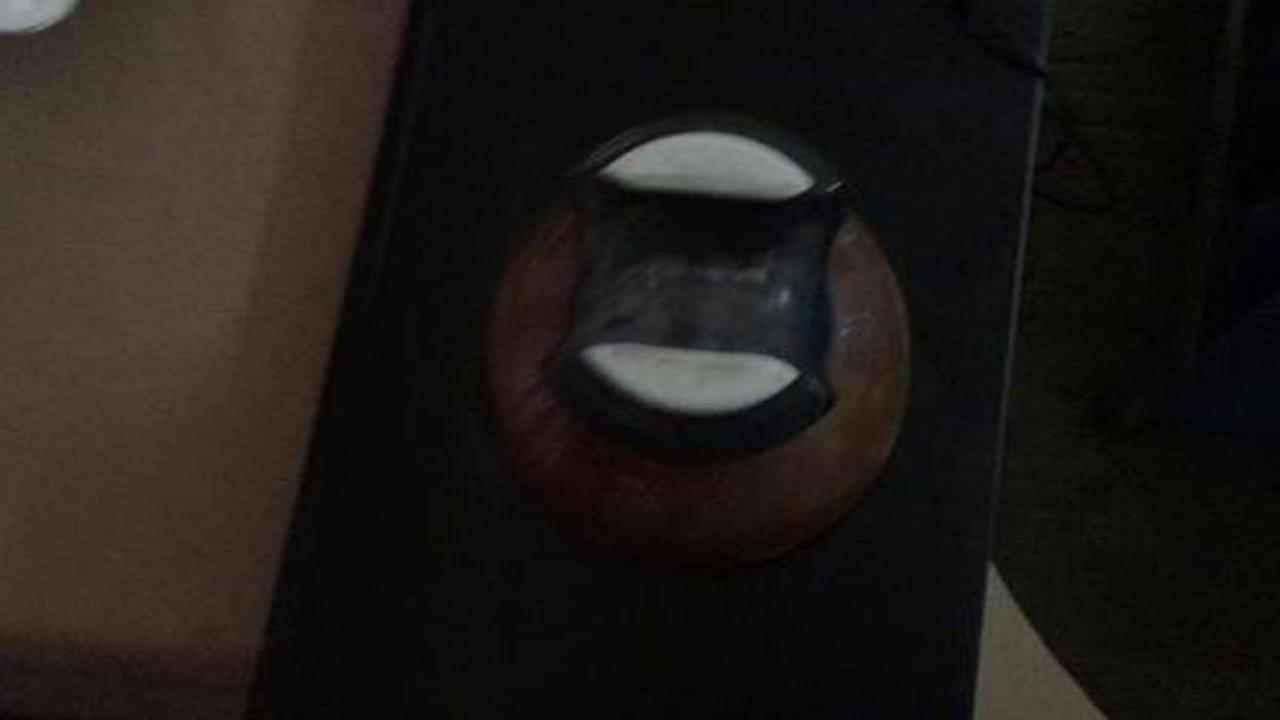insulator_pin: (456, 101, 945, 589)
